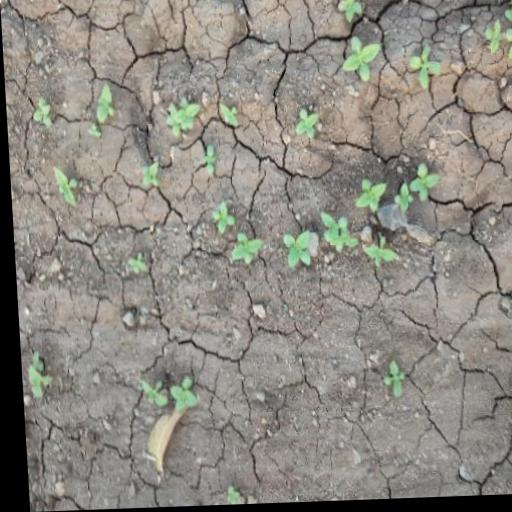crop: (350, 165, 456, 278), (160, 94, 243, 185), (276, 210, 347, 280), (337, 0, 381, 102), (207, 204, 266, 273), (465, 0, 512, 67), (125, 372, 199, 414), (39, 164, 92, 210), (404, 50, 452, 99), (80, 84, 115, 136), (289, 103, 318, 148), (506, 74, 512, 130)
